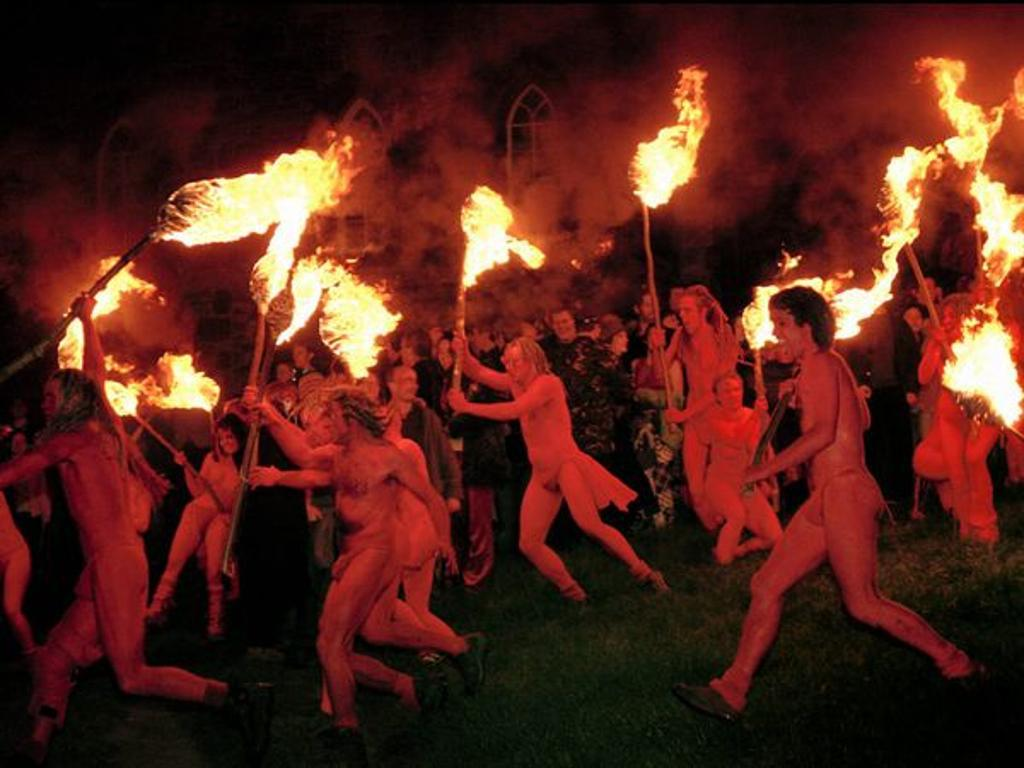face: (771, 311, 809, 358), (41, 377, 75, 426), (324, 402, 356, 443), (681, 297, 707, 335), (392, 370, 419, 401), (943, 303, 965, 337), (718, 382, 742, 410), (503, 350, 526, 378), (218, 426, 239, 454), (554, 313, 574, 341), (438, 340, 455, 368), (646, 327, 664, 351), (293, 346, 311, 368), (643, 296, 659, 320), (399, 339, 413, 366), (919, 282, 936, 304), (611, 331, 629, 351), (906, 310, 921, 333), (278, 364, 291, 383)
